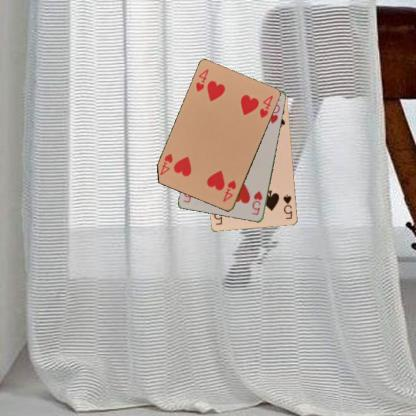4h: (220, 178, 238, 204), (193, 66, 210, 93)
5h: (249, 188, 264, 217)
5s: (281, 192, 293, 220)
